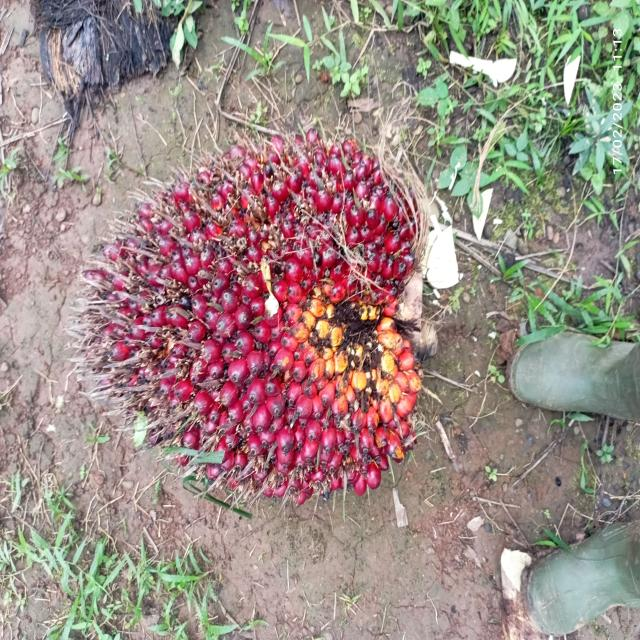fraksi 3: (68, 101, 456, 513)
